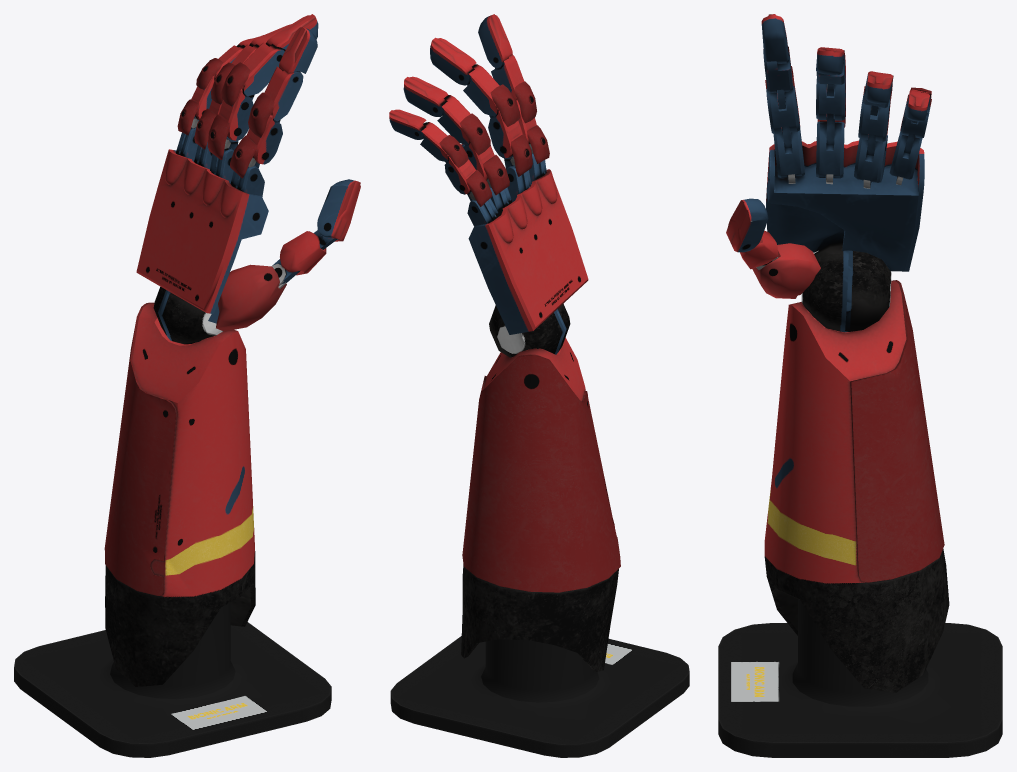
3 renders of one model, left to right at view 1: azimuth 30°, elevation 25°; view 2: azimuth 150°, elevation 25°; view 3: azimuth 270°, elevation 25°, orthographic. The views are drawn at different scales.
Parts seen in each view (by area): view 1: cf_bionic_arm, pCube1; view 2: cf_bionic_arm, pCube1; view 3: cf_bionic_arm, pCube1.
Boxes of the visible parts, x1=… form: cf_bionic_arm: x1=104, y1=14, x2=360, y2=686; pCube1: x1=14, y1=602, x2=331, y2=757; cf_bionic_arm: x1=389, y1=14, x2=620, y2=671; pCube1: x1=390, y1=636, x2=689, y2=757; cf_bionic_arm: x1=726, y1=14, x2=949, y2=692; pCube1: x1=718, y1=599, x2=1002, y2=757.
Size of the model in its own units: 7.57 by 19.42 by 6.83.
Materials: 2 (2 with a texture image).
